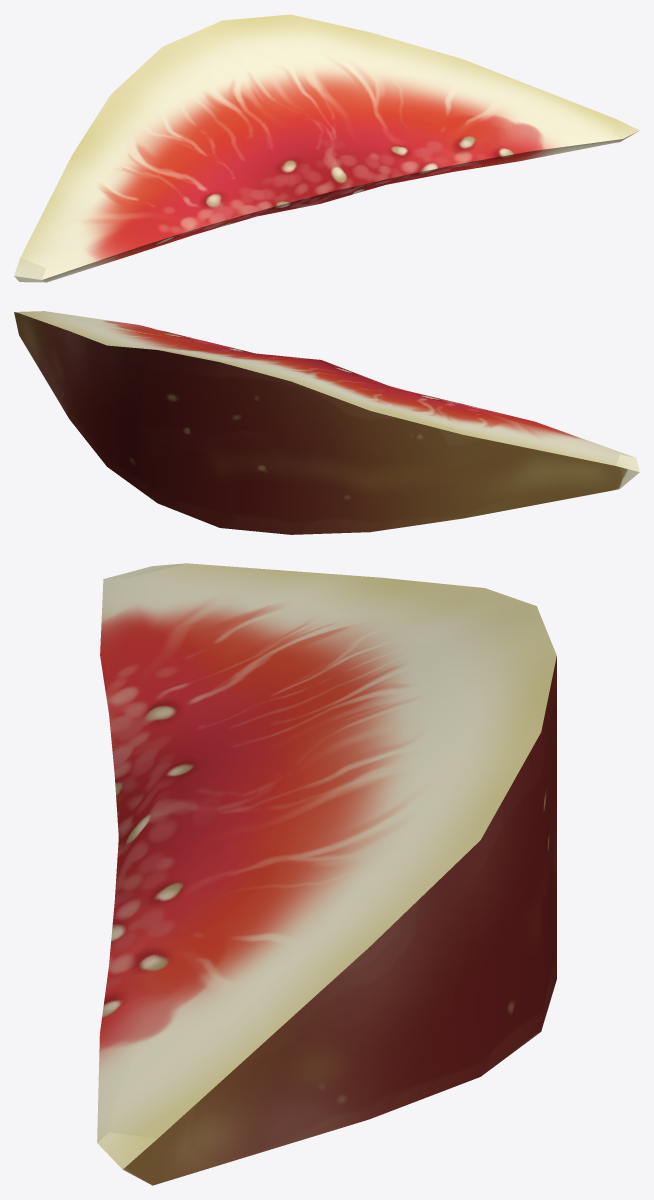
Rendered from fig.fbx.
The picture shows the model from 3 angles, top to bottom: view 1: azimuth 30°, elevation 25°; view 2: azimuth 150°, elevation 25°; view 3: azimuth 270°, elevation 25°; orthographic projection. The views are drawn at different scales.
Parts seen in each view (by area): view 1: Box001; view 2: Box001; view 3: Box001.
Part boxes in pixels (x1=…): Box001: x1=14, y1=14, x2=639, y2=282; Box001: x1=14, y1=311, x2=639, y2=534; Box001: x1=97, y1=563, x2=556, y2=1185.
Bounding box in the file's own units: 38.32 × 9.58 × 12.33.
1 material, 1 textured.
